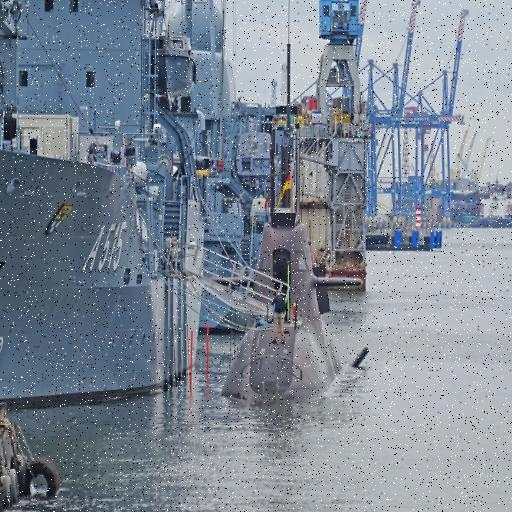submarine: (225, 118, 363, 402)
